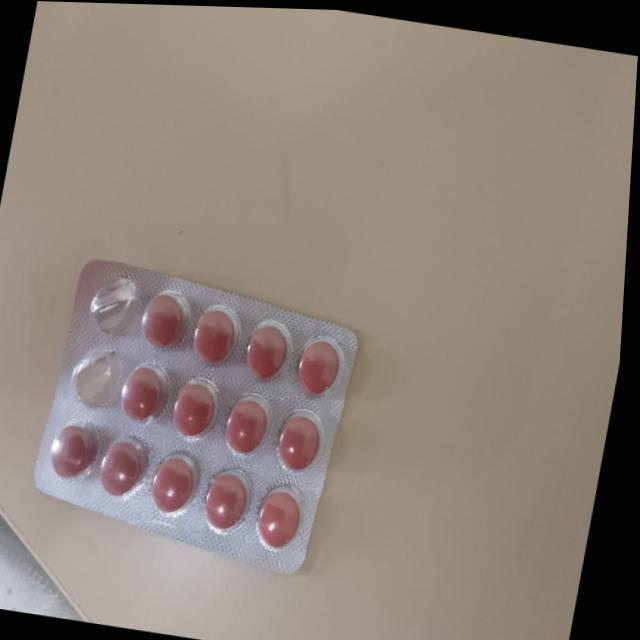medicine: (14, 247, 390, 561)
